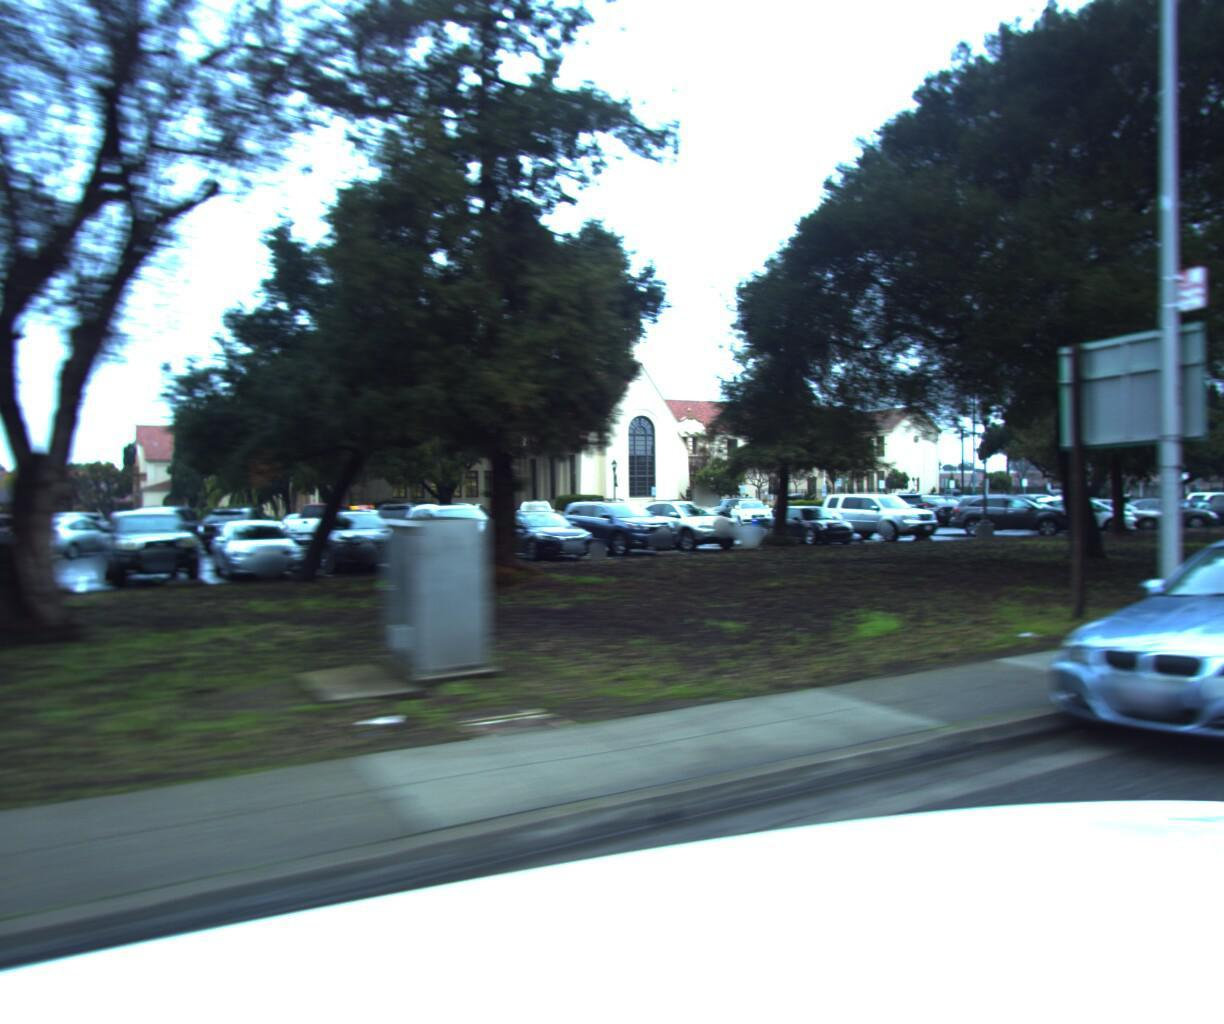car: (1014, 511, 1224, 837)
